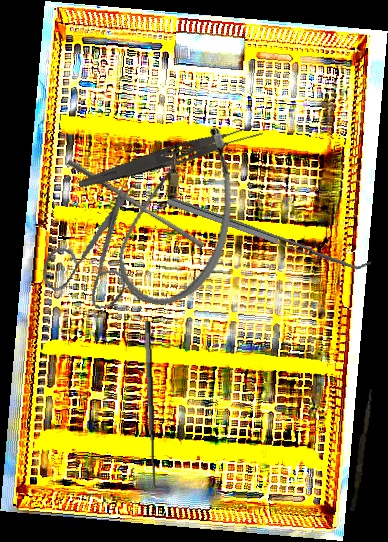Cannula: (111, 113, 247, 316)
Dressing Forceps: (76, 118, 265, 197)
Hook Surgical: (141, 320, 170, 492)
Iris Scissors: (26, 179, 159, 320)
Pusher: (63, 159, 208, 249), (350, 388, 373, 512)
Spatula Surgical: (166, 188, 372, 277)
